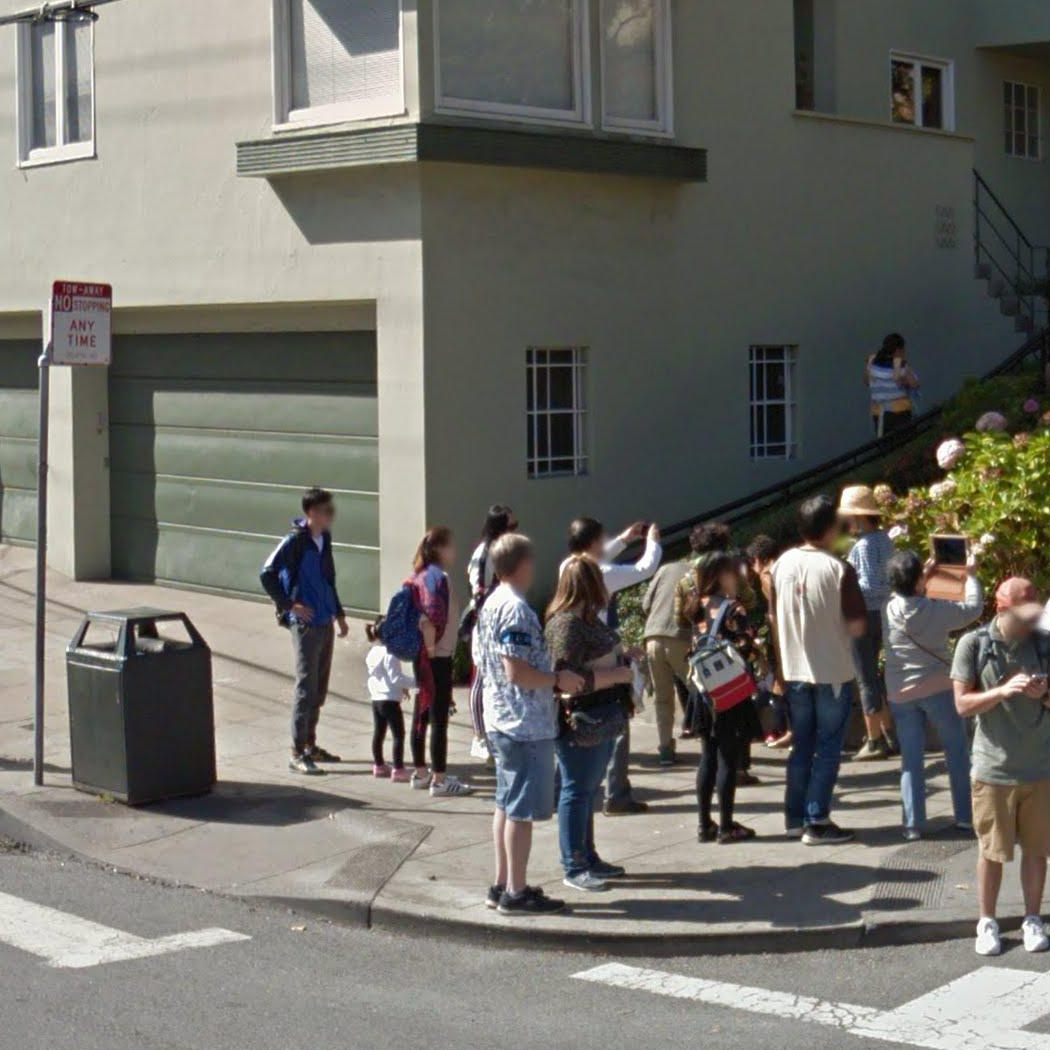No Parking Anytime: (50, 280, 113, 366)
